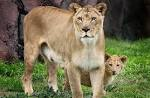lion: (19, 6, 106, 97)
